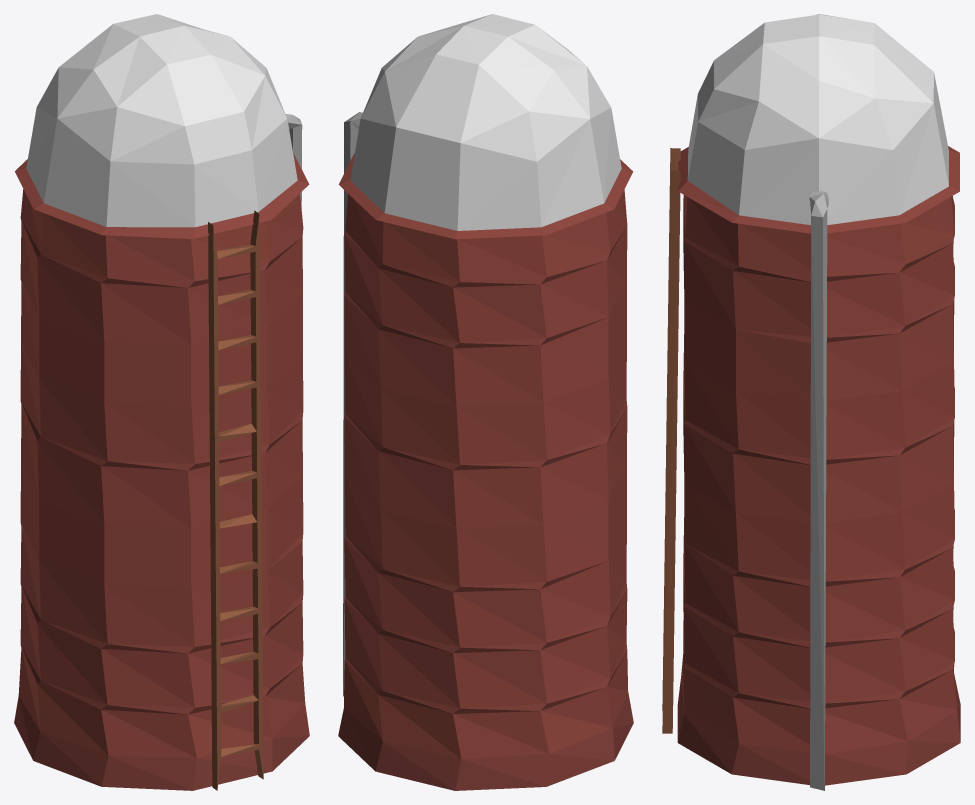
The model's file is Silo.lod1.glb.
3 views of the same model, side by side, from view 1: azimuth 30°, elevation 25°; view 2: azimuth 150°, elevation 25°; view 3: azimuth 270°, elevation 25° (orthographic).
Parts seen in each view (by area): view 1: Silo; view 2: Silo; view 3: Silo.
Boxes of the visible parts, <box> form: Silo: <box>14,14,309,790</box>; Silo: <box>338,14,633,790</box>; Silo: <box>662,14,960,790</box>.
Bounding box in the file's own units: 3.66 × 9.07 × 3.51.
